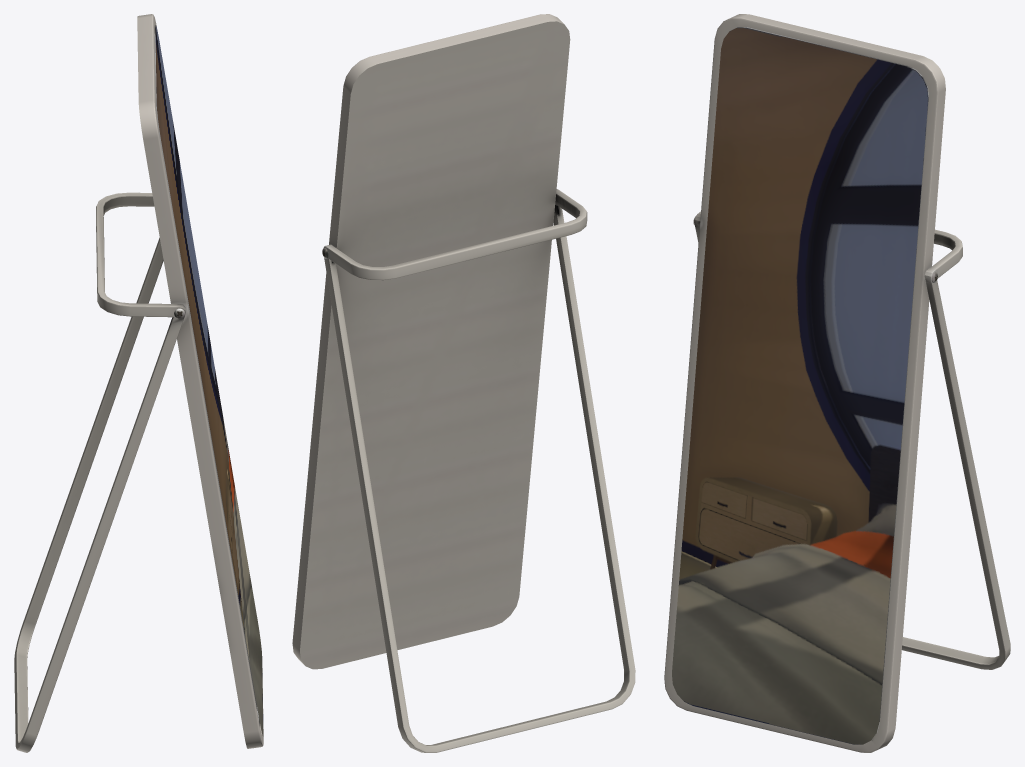
Rendered from Mirror.fbx.
3 views of the same model, side by side, from view 1: azimuth 30°, elevation 25°; view 2: azimuth 150°, elevation 25°; view 3: azimuth 270°, elevation 25° (orthographic).
Parts seen in each view (by area): view 1: Mirror.001; view 2: Mirror.001; view 3: Mirror.001.
Boxes of the visible parts, <box> form: Mirror.001: <box>14,14,263,752</box>; Mirror.001: <box>292,14,635,752</box>; Mirror.001: <box>664,14,1010,752</box>.
Size of the model in its own units: 1.04 by 2.24 by 1.07.
